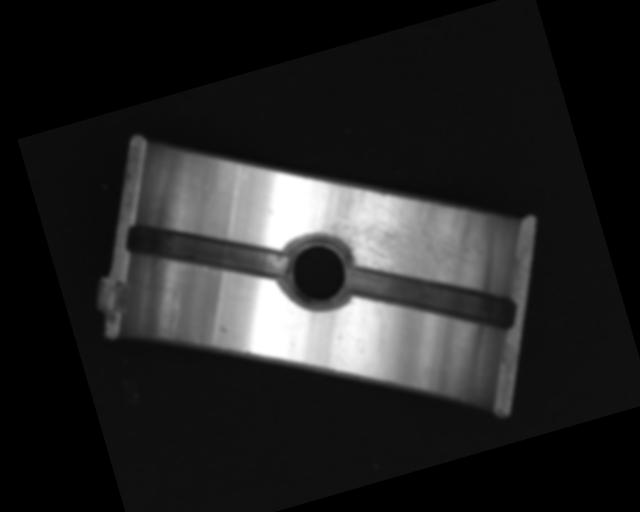bruise: (218, 322, 230, 334)
gap: (347, 231, 517, 366), (123, 187, 291, 314)
hole: (275, 226, 360, 318)
nick: (159, 290, 192, 338)
scratch: (309, 155, 485, 320)
